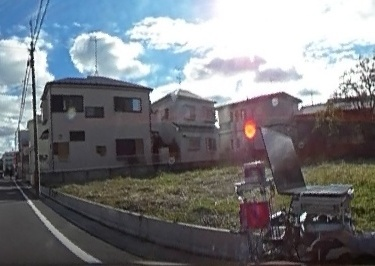person: (334, 62, 375, 266)
